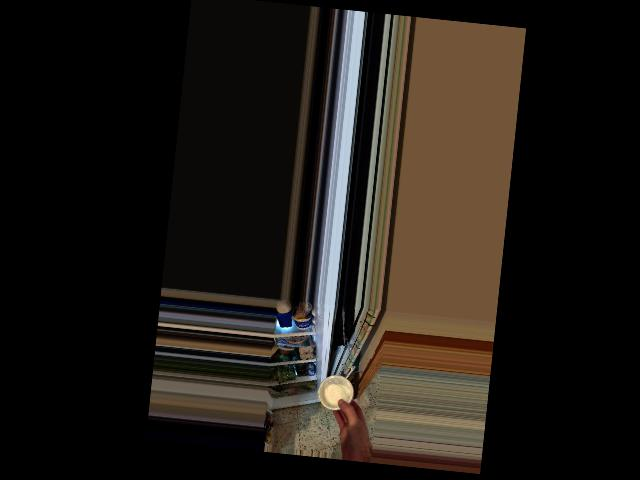cotage: (316, 371, 356, 410)
